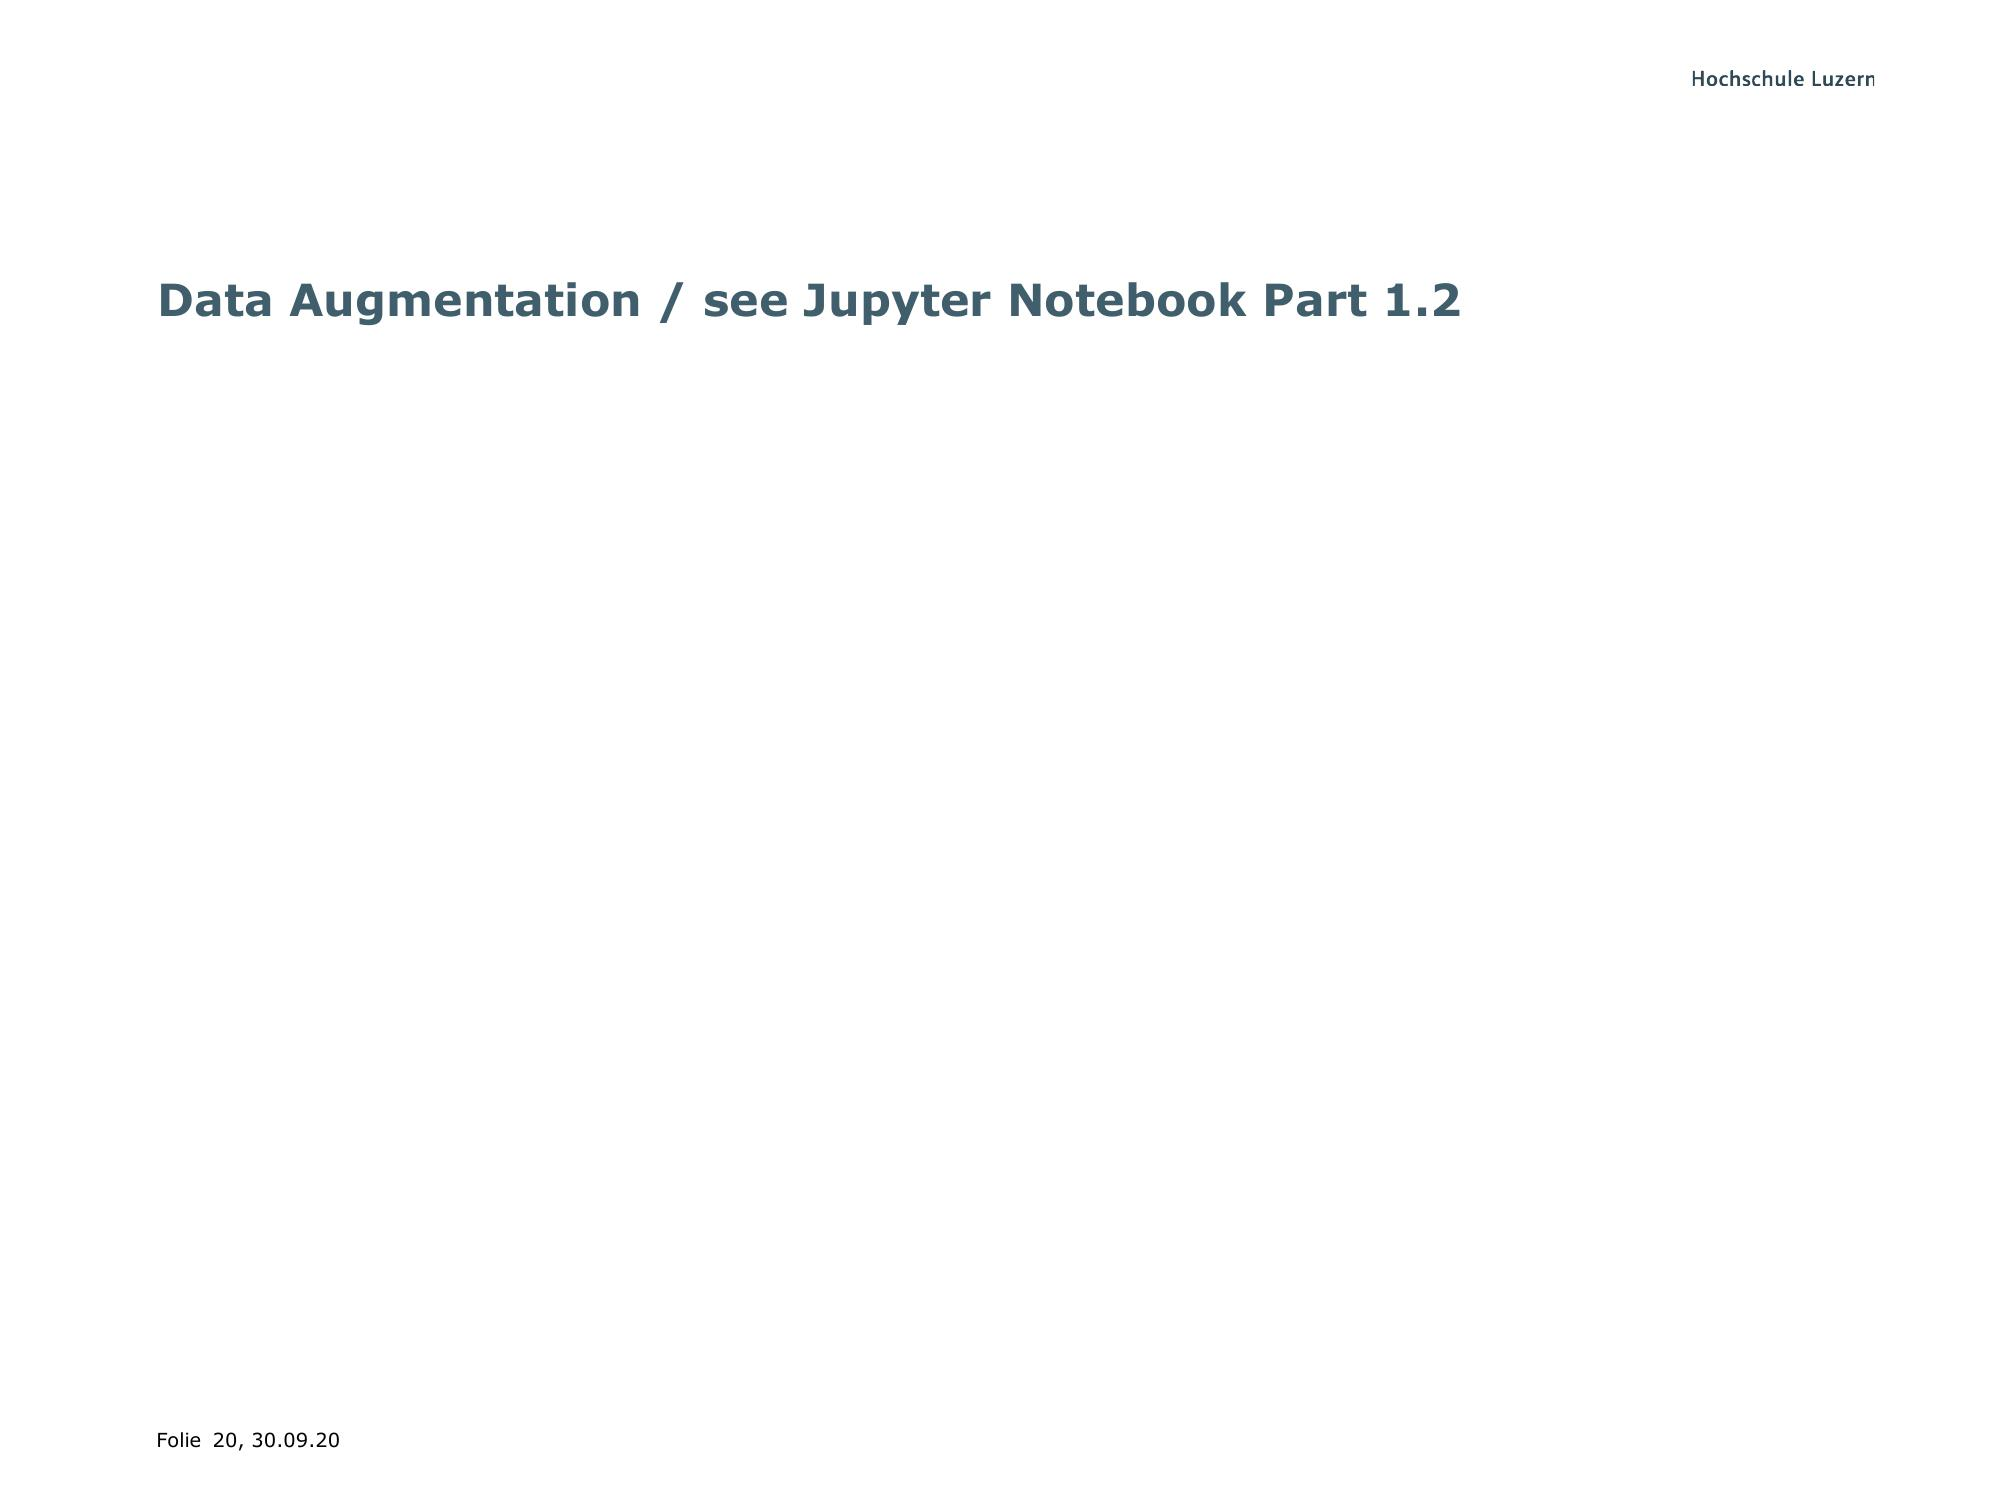Title: (132, 254, 1494, 334)
